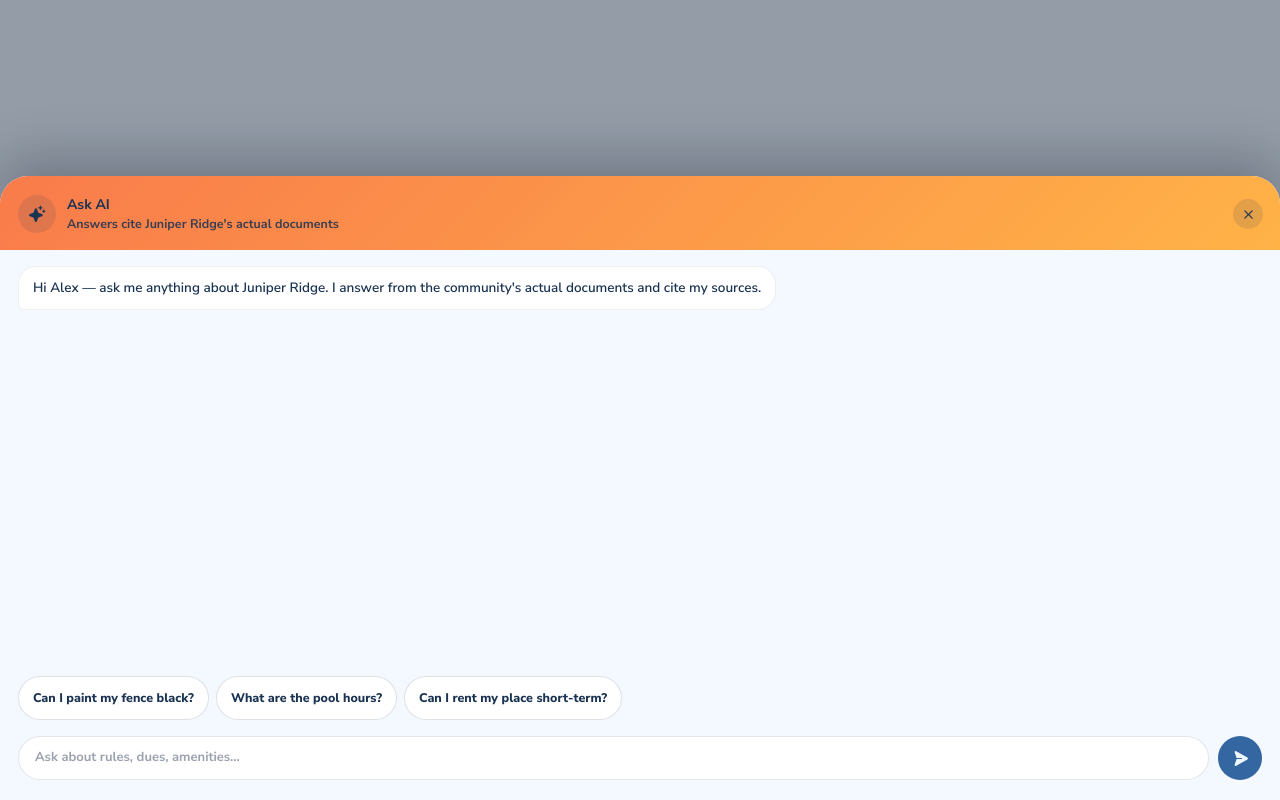
Test: QA chip plays scripted answer with citation
Click the button "Can I paint my fence black?": point(113, 698) x1=18 y1=676 x2=209 y2=720
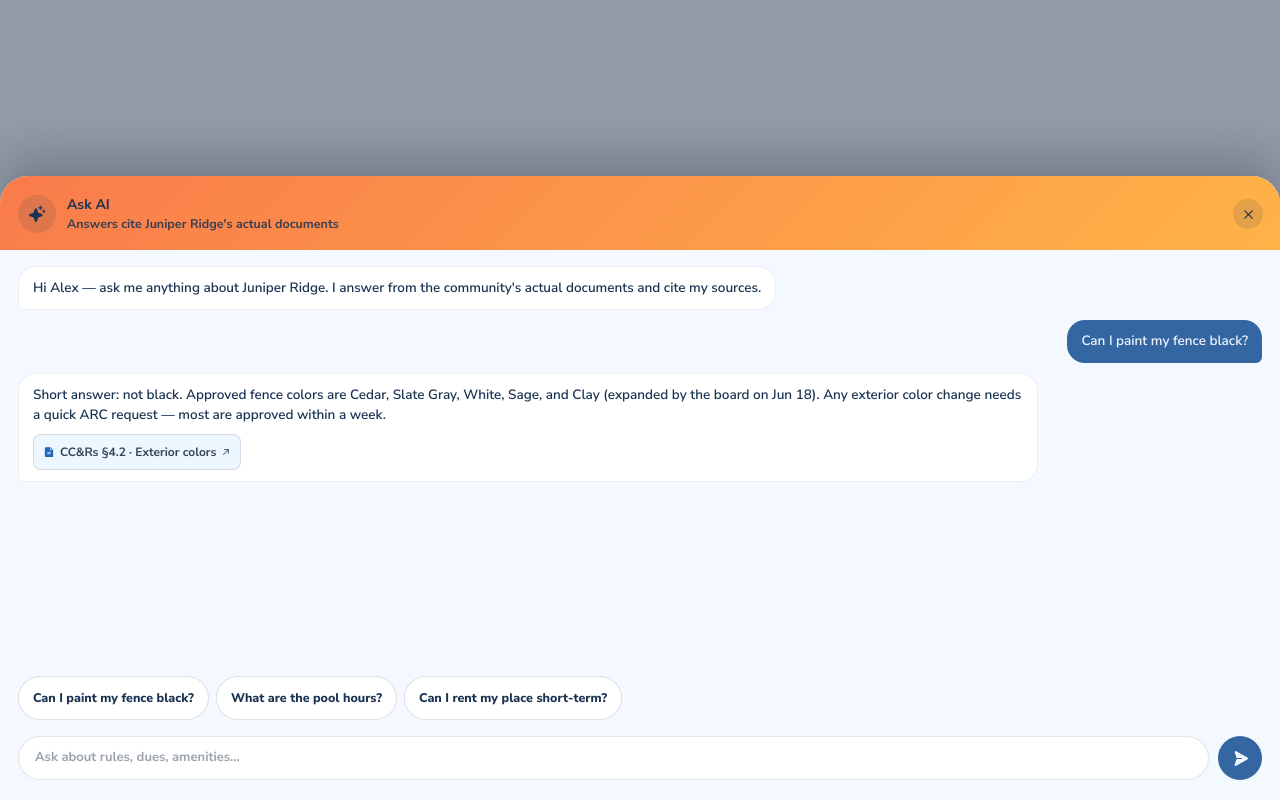
Now the text "Short answer: not black" is shown, box x1=33 y1=384 x2=1021 y2=424
Now the text "CC&Rs §4.2 · Exterior colors" is shown, box x1=60 y1=443 x2=216 y2=461
